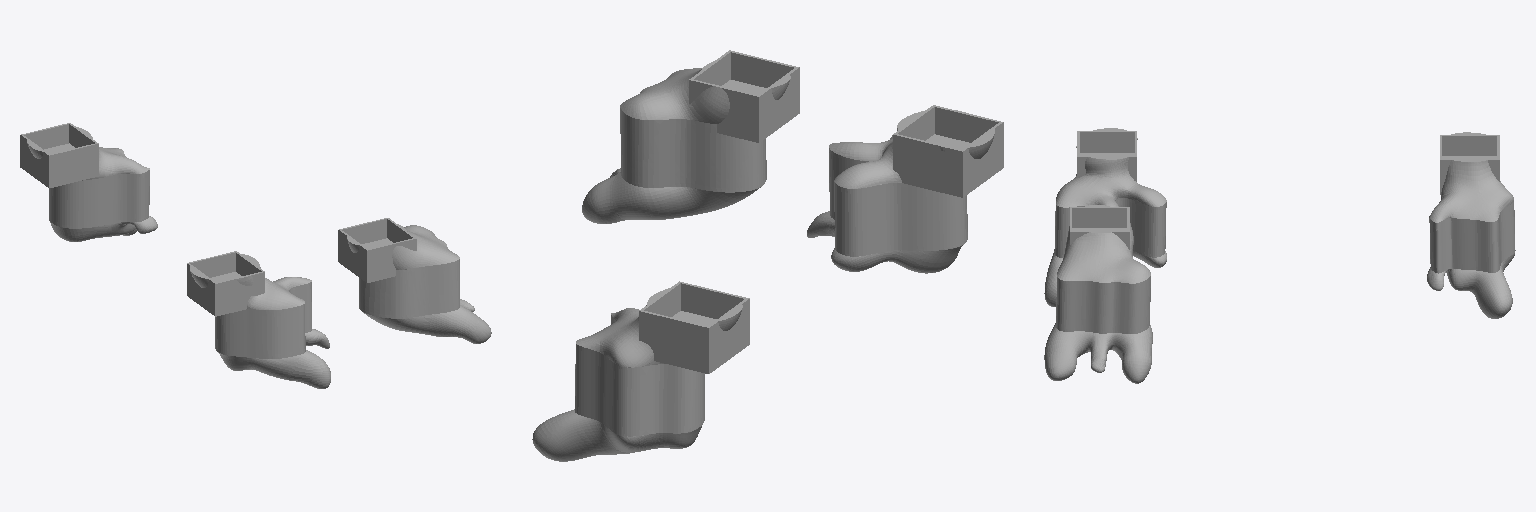
The robot description file, URDF, robot "FrogBot4_top-FrogBot4-z-9_bottom-FrogBot4-z-9":
<?xml version="1.0" ?>
<robot name="FrogBot4_top-FrogBot4-z-9_bottom-FrogBot4-z-9">

<material name="pla_5_percent_infill">
  <color rgba="0.700 0.700 0.700 1.000"/>
</material>

<link name="base_link">
  <inertial>
    <origin xyz="0 0 0" rpy="0 0 0"/>
    <mass value="1.4608203761339813"/>
    <inertia ixx="0.00496034401110324" iyy="0.010259632804669863" izz="0.010457868746855814" ixy="4.519338143051983e-05" iyz="5.808312742508133e-05" ixz="-0.001193761897574285"/>
  </inertial>
  <visual>
    <origin xyz="0 0 0" rpy="0 0 0"/>
    <geometry>
      <mesh filename="simple_meshes/base_link.stl" scale="0.001 0.001 0.001"/>
    </geometry>
    <material name="pla_5_percent_infill"/>
  </visual>
  <collision>
    <origin xyz="0 0 0" rpy="0 0 0"/>
    <geometry>
      <mesh filename="simple_meshes/base_link.stl" scale="0.001 0.001 0.001"/>
    </geometry>
  </collision>
</link>

<link name="body_1_0_1">
  <inertial>
    <origin xyz="-0.039935 -0.102508 -0.020563" rpy="0 0 0"/>
    <mass value="0.09638039335267436"/>
    <inertia ixx="0.000149413605200066" iyy="0.00016719334268943775" izz="4.179590209425245e-05" ixy="1.0736294895138812e-06" iyz="3.4236254684453854e-06" ixz="-1.7916284568301238e-05"/>
  </inertial>
  <visual>
    <origin xyz="-0.039935 -0.102508 -0.020563" rpy="0 0 0"/>
    <geometry>
      <mesh filename="simple_meshes/body_1_0_1.stl" scale="0.001 0.001 0.001"/>
    </geometry>
    <material name="pla_5_percent_infill"/>
  </visual>
  <collision>
    <origin xyz="-0.039935 -0.102508 -0.020563" rpy="0 0 0"/>
    <geometry>
      <mesh filename="simple_meshes/body_1_0_1.stl" scale="0.001 0.001 0.001"/>
    </geometry>
  </collision>
</link>

<link name="body_1_1_1">
  <inertial>
    <origin xyz="0.084829 -0.102508 0.010182" rpy="0 0 0"/>
    <mass value="0.11500864731276682"/>
    <inertia ixx="0.0001257884091385819" iyy="0.00018210563603961822" izz="8.533031921161222e-05" ixy="-2.4119076764410764e-06" iyz="1.8601116171418656e-06" ixz="-3.19286860500485e-05"/>
  </inertial>
  <visual>
    <origin xyz="0.084829 -0.102508 0.010182" rpy="0 0 0"/>
    <geometry>
      <mesh filename="simple_meshes/body_1_1_1.stl" scale="0.001 0.001 0.001"/>
    </geometry>
    <material name="pla_5_percent_infill"/>
  </visual>
  <collision>
    <origin xyz="0.084829 -0.102508 0.010182" rpy="0 0 0"/>
    <geometry>
      <mesh filename="simple_meshes/body_1_1_1.stl" scale="0.001 0.001 0.001"/>
    </geometry>
  </collision>
</link>

<link name="body_1_2_1">
  <inertial>
    <origin xyz="-0.032973 0.102508 -0.03352" rpy="0 0 0"/>
    <mass value="0.10241329953721655"/>
    <inertia ixx="0.00018093746184395234" iyy="0.0001968792083816403" izz="4.48962329537418e-05" ixy="-2.8025641851598445e-06" iyz="-1.4965751827654146e-05" ixz="-1.5131763044338097e-05"/>
  </inertial>
  <visual>
    <origin xyz="-0.032973 0.102508 -0.03352" rpy="0 0 0"/>
    <geometry>
      <mesh filename="simple_meshes/body_1_2_1.stl" scale="0.001 0.001 0.001"/>
    </geometry>
    <material name="pla_5_percent_infill"/>
  </visual>
  <collision>
    <origin xyz="-0.032973 0.102508 -0.03352" rpy="0 0 0"/>
    <geometry>
      <mesh filename="simple_meshes/body_1_2_1.stl" scale="0.001 0.001 0.001"/>
    </geometry>
  </collision>
</link>

<link name="body_1_3_1">
  <inertial>
    <origin xyz="0.075405 0.102508 -0.000907" rpy="0 0 0"/>
    <mass value="0.12156832275059853"/>
    <inertia ixx="0.00013758525365973207" iyy="0.00019504016904389027" izz="8.909196501142398e-05" ixy="6.113718046120258e-08" iyz="-1.939409002651364e-06" ixz="-3.1433497264792476e-05"/>
  </inertial>
  <visual>
    <origin xyz="0.075405 0.102508 -0.000907" rpy="0 0 0"/>
    <geometry>
      <mesh filename="simple_meshes/body_1_3_1.stl" scale="0.001 0.001 0.001"/>
    </geometry>
    <material name="pla_5_percent_infill"/>
  </visual>
  <collision>
    <origin xyz="0.075405 0.102508 -0.000907" rpy="0 0 0"/>
    <geometry>
      <mesh filename="simple_meshes/body_1_3_1.stl" scale="0.001 0.001 0.001"/>
    </geometry>
  </collision>
</link>

<link name="body_2_0_1">
  <inertial>
    <origin xyz="-0.025656 -0.145015 0.130436" rpy="0 0 0"/>
    <mass value="0.13276483031611247"/>
    <inertia ixx="0.00012733077783330486" iyy="0.00014981371842684096" izz="0.00012742258036916492" ixy="-7.36380966592353e-08" iyz="1.2431444579314582e-06" ixz="2.9384950213315287e-05"/>
  </inertial>
  <visual>
    <origin xyz="-0.025656 -0.145015 0.130436" rpy="0 0 0"/>
    <geometry>
      <mesh filename="simple_meshes/body_2_0_1.stl" scale="0.001 0.001 0.001"/>
    </geometry>
    <material name="pla_5_percent_infill"/>
  </visual>
  <collision>
    <origin xyz="-0.025656 -0.145015 0.130436" rpy="0 0 0"/>
    <geometry>
      <mesh filename="simple_meshes/body_2_0_1.stl" scale="0.001 0.001 0.001"/>
    </geometry>
  </collision>
</link>

<link name="body_2_1_1">
  <inertial>
    <origin xyz="0.114857 -0.145661 0.130438" rpy="0 0 0"/>
    <mass value="0.11275214548822712"/>
    <inertia ixx="9.736265908280497e-05" iyy="0.00013366332983472898" izz="9.006927698340531e-05" ixy="-2.6136765315142377e-06" iyz="6.9041537036794096e-06" ixz="2.9901195570665494e-05"/>
  </inertial>
  <visual>
    <origin xyz="0.114857 -0.145661 0.130438" rpy="0 0 0"/>
    <geometry>
      <mesh filename="simple_meshes/body_2_1_1.stl" scale="0.001 0.001 0.001"/>
    </geometry>
    <material name="pla_5_percent_infill"/>
  </visual>
  <collision>
    <origin xyz="0.114857 -0.145661 0.130438" rpy="0 0 0"/>
    <geometry>
      <mesh filename="simple_meshes/body_2_1_1.stl" scale="0.001 0.001 0.001"/>
    </geometry>
  </collision>
</link>

<link name="body_2_2_1">
  <inertial>
    <origin xyz="-0.022601 0.152053 0.130436" rpy="0 0 0"/>
    <mass value="0.14311456560235977"/>
    <inertia ixx="0.00013674929125781152" iyy="0.0001658379147275119" izz="0.00013727213865715555" ixy="-4.2164385010813946e-06" iyz="-1.113693552828518e-06" ixz="3.2963625339837424e-05"/>
  </inertial>
  <visual>
    <origin xyz="-0.022601 0.152053 0.130436" rpy="0 0 0"/>
    <geometry>
      <mesh filename="simple_meshes/body_2_2_1.stl" scale="0.001 0.001 0.001"/>
    </geometry>
    <material name="pla_5_percent_infill"/>
  </visual>
  <collision>
    <origin xyz="-0.022601 0.152053 0.130436" rpy="0 0 0"/>
    <geometry>
      <mesh filename="simple_meshes/body_2_2_1.stl" scale="0.001 0.001 0.001"/>
    </geometry>
  </collision>
</link>

<link name="body_2_3_1">
  <inertial>
    <origin xyz="0.12145 0.146005 0.130436" rpy="0 0 0"/>
    <mass value="0.11981848753320068"/>
    <inertia ixx="0.00011731779423468022" iyy="0.00012379083392387562" izz="0.00011021283487030456" ixy="5.655840359716953e-06" iyz="-1.2241822694034933e-05" ixz="2.097166595083598e-05"/>
  </inertial>
  <visual>
    <origin xyz="0.12145 0.146005 0.130436" rpy="0 0 0"/>
    <geometry>
      <mesh filename="simple_meshes/body_2_3_1.stl" scale="0.001 0.001 0.001"/>
    </geometry>
    <material name="pla_5_percent_infill"/>
  </visual>
  <collision>
    <origin xyz="0.12145 0.146005 0.130436" rpy="0 0 0"/>
    <geometry>
      <mesh filename="simple_meshes/body_2_3_1.stl" scale="0.001 0.001 0.001"/>
    </geometry>
  </collision>
</link>

<joint name="joint_1_0" type="revolute">
  <origin xyz="0.039935 0.102508 0.020563" rpy="0 0 0"/>
  <parent link="base_link"/>
  <child link="body_1_0_1"/>
  <axis xyz="0.0 1.0 0.0"/>
  <limit upper="1.2" lower="-1.2" effort="3.8" velocity="5.4"/>
</joint>
<transmission name="joint_1_0_tran">
  <type>transmission_interface/SimpleTransmission</type>
  <joint name="joint_1_0">
    <hardwareInterface>PositionJointInterface</hardwareInterface>
  </joint>
  <actuator name="joint_1_0_actr">
    <hardwareInterface>PositionJointInterface</hardwareInterface>
    <mechanicalReduction>1</mechanicalReduction>
  </actuator>
</transmission>

<joint name="joint_1_1" type="revolute">
  <origin xyz="-0.084829 0.102508 -0.010182" rpy="0 0 0"/>
  <parent link="base_link"/>
  <child link="body_1_1_1"/>
  <axis xyz="0.0 1.0 0.0"/>
  <limit upper="1.2" lower="-1.2" effort="3.8" velocity="5.4"/>
</joint>
<transmission name="joint_1_1_tran">
  <type>transmission_interface/SimpleTransmission</type>
  <joint name="joint_1_1">
    <hardwareInterface>PositionJointInterface</hardwareInterface>
  </joint>
  <actuator name="joint_1_1_actr">
    <hardwareInterface>PositionJointInterface</hardwareInterface>
    <mechanicalReduction>1</mechanicalReduction>
  </actuator>
</transmission>

<joint name="joint_1_2" type="revolute">
  <origin xyz="0.032973 -0.102508 0.03352" rpy="0 0 0"/>
  <parent link="base_link"/>
  <child link="body_1_2_1"/>
  <axis xyz="0.0 1.0 0.0"/>
  <limit upper="1.2" lower="-1.2" effort="3.8" velocity="5.4"/>
</joint>
<transmission name="joint_1_2_tran">
  <type>transmission_interface/SimpleTransmission</type>
  <joint name="joint_1_2">
    <hardwareInterface>PositionJointInterface</hardwareInterface>
  </joint>
  <actuator name="joint_1_2_actr">
    <hardwareInterface>PositionJointInterface</hardwareInterface>
    <mechanicalReduction>1</mechanicalReduction>
  </actuator>
</transmission>

<joint name="joint_1_3" type="revolute">
  <origin xyz="-0.075405 -0.102508 0.000907" rpy="0 0 0"/>
  <parent link="base_link"/>
  <child link="body_1_3_1"/>
  <axis xyz="0.0 1.0 0.0"/>
  <limit upper="1.2" lower="-1.2" effort="3.8" velocity="5.4"/>
</joint>
<transmission name="joint_1_3_tran">
  <type>transmission_interface/SimpleTransmission</type>
  <joint name="joint_1_3">
    <hardwareInterface>PositionJointInterface</hardwareInterface>
  </joint>
  <actuator name="joint_1_3_actr">
    <hardwareInterface>PositionJointInterface</hardwareInterface>
    <mechanicalReduction>1</mechanicalReduction>
  </actuator>
</transmission>

<joint name="joint_2_0" type="revolute">
  <origin xyz="-0.014279 0.042507 -0.150999" rpy="0 0 0"/>
  <parent link="body_1_0_1"/>
  <child link="body_2_0_1"/>
  <axis xyz="0.0 0.0 1.0"/>
  <limit upper="1.2" lower="-1.2" effort="3.8" velocity="5.4"/>
</joint>
<transmission name="joint_2_0_tran">
  <type>transmission_interface/SimpleTransmission</type>
  <joint name="joint_2_0">
    <hardwareInterface>PositionJointInterface</hardwareInterface>
  </joint>
  <actuator name="joint_2_0_actr">
    <hardwareInterface>PositionJointInterface</hardwareInterface>
    <mechanicalReduction>1</mechanicalReduction>
  </actuator>
</transmission>

<joint name="joint_2_1" type="revolute">
  <origin xyz="-0.030028 0.043153 -0.120256" rpy="0 0 0"/>
  <parent link="body_1_1_1"/>
  <child link="body_2_1_1"/>
  <axis xyz="0.0 0.0 1.0"/>
  <limit upper="1.2" lower="-1.2" effort="3.8" velocity="5.4"/>
</joint>
<transmission name="joint_2_1_tran">
  <type>transmission_interface/SimpleTransmission</type>
  <joint name="joint_2_1">
    <hardwareInterface>PositionJointInterface</hardwareInterface>
  </joint>
  <actuator name="joint_2_1_actr">
    <hardwareInterface>PositionJointInterface</hardwareInterface>
    <mechanicalReduction>1</mechanicalReduction>
  </actuator>
</transmission>

<joint name="joint_2_2" type="revolute">
  <origin xyz="-0.010372 -0.049545 -0.163956" rpy="0 0 0"/>
  <parent link="body_1_2_1"/>
  <child link="body_2_2_1"/>
  <axis xyz="0.0 0.0 1.0"/>
  <limit upper="1.2" lower="-1.2" effort="3.8" velocity="5.4"/>
</joint>
<transmission name="joint_2_2_tran">
  <type>transmission_interface/SimpleTransmission</type>
  <joint name="joint_2_2">
    <hardwareInterface>PositionJointInterface</hardwareInterface>
  </joint>
  <actuator name="joint_2_2_actr">
    <hardwareInterface>PositionJointInterface</hardwareInterface>
    <mechanicalReduction>1</mechanicalReduction>
  </actuator>
</transmission>

<joint name="joint_2_3" type="revolute">
  <origin xyz="-0.046045 -0.043497 -0.131343" rpy="0 0 0"/>
  <parent link="body_1_3_1"/>
  <child link="body_2_3_1"/>
  <axis xyz="0.0 0.0 1.0"/>
  <limit upper="1.2" lower="-1.2" effort="3.8" velocity="5.4"/>
</joint>
<transmission name="joint_2_3_tran">
  <type>transmission_interface/SimpleTransmission</type>
  <joint name="joint_2_3">
    <hardwareInterface>PositionJointInterface</hardwareInterface>
  </joint>
  <actuator name="joint_2_3_actr">
    <hardwareInterface>PositionJointInterface</hardwareInterface>
    <mechanicalReduction>1</mechanicalReduction>
  </actuator>
</transmission>

</robot>

--- Facts derived from the render (not from the file) ---
Views: 3 orthographic renders of the robot side by side, from view 1: azimuth 30°, elevation 25°; view 2: azimuth 150°, elevation 25°; view 3: azimuth 270°, elevation 25°.
Robot: FrogBot4_top-FrogBot4-z-9_bottom-FrogBot4-z-9 — 9 links, 8 joints (8 revolute); root link base_link; default pose: every joint at zero.
Links seen in each view (by area): view 1: body_2_3_1, body_2_2_1, body_2_1_1; view 2: body_2_2_1, body_2_1_1, body_2_3_1; view 3: body_2_2_1, body_2_1_1, body_2_3_1.
Boxes of the visible links, <box> form: body_2_3_1: <box>187,251,330,388</box>; body_2_2_1: <box>338,218,491,343</box>; body_2_1_1: <box>20,123,157,241</box>; body_2_2_1: <box>582,50,799,223</box>; body_2_1_1: <box>532,281,749,461</box>; body_2_3_1: <box>807,105,1003,273</box>; body_2_2_1: <box>1044,205,1152,383</box>; body_2_1_1: <box>1427,132,1515,318</box>; body_2_3_1: <box>1044,128,1166,306</box>.
Size in the robot's own frame: 0.2681 by 0.379 by 0.1138 metres.
Meshes: 9 distinct files referenced, 3 mesh visuals loaded (3 binary STL); not drawn: 6 (reference not matched to a file when rendering).